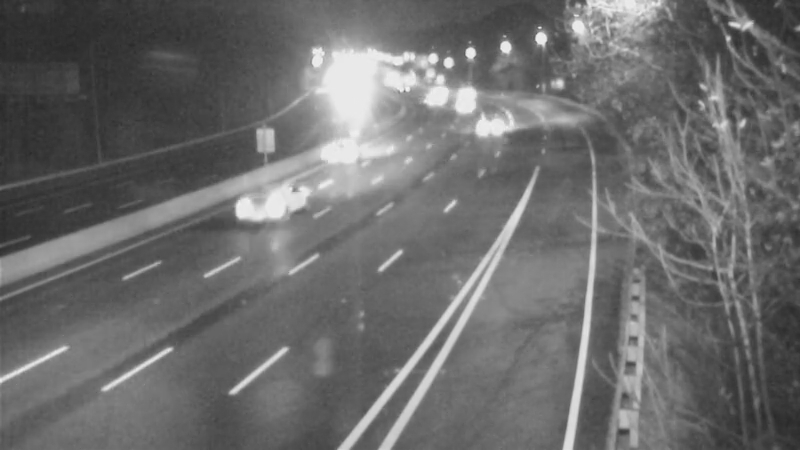vehicle: (304, 116, 384, 196), (232, 159, 312, 239), (470, 99, 520, 149)
